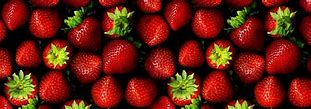Fresa: (264, 37, 304, 75), (101, 38, 140, 74), (67, 12, 102, 52), (229, 12, 264, 50), (3, 70, 39, 105), (166, 70, 201, 105), (135, 13, 171, 47), (191, 7, 227, 40), (100, 5, 136, 38), (92, 71, 123, 109), (124, 74, 158, 107), (29, 7, 64, 39), (264, 5, 297, 38), (201, 69, 234, 102), (253, 75, 285, 109), (232, 51, 265, 83), (39, 69, 72, 101), (143, 48, 177, 78), (40, 38, 73, 68), (71, 51, 103, 80), (13, 36, 42, 68), (1, 1, 31, 31), (163, 1, 192, 32), (205, 38, 232, 71), (286, 74, 311, 109), (178, 39, 205, 69)
